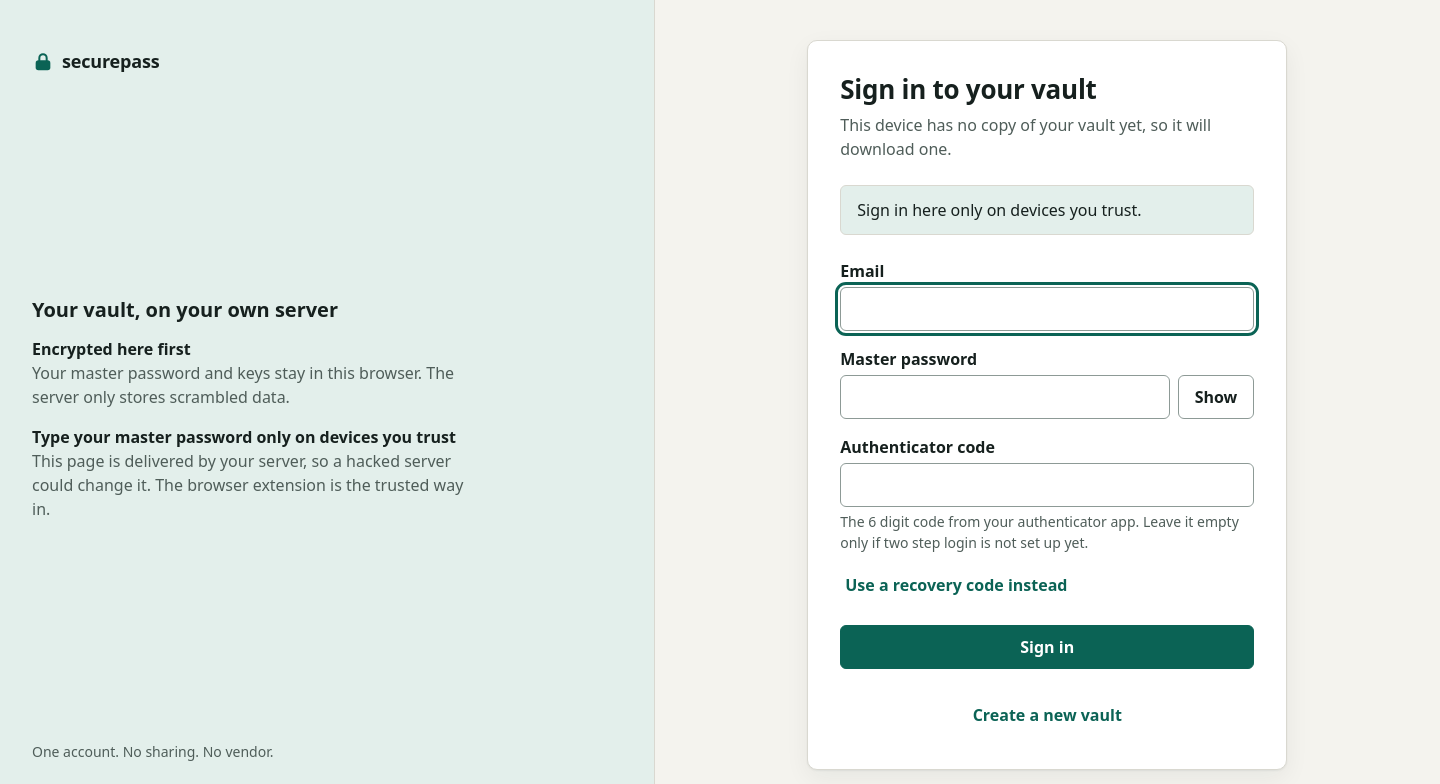
Test: SignInScreen › shows an alert for {"kind":"network"} and clears the password
Type "me@example.com" into the field labelled "Email". click: (1047, 309)
box: [840,287,1254,331]
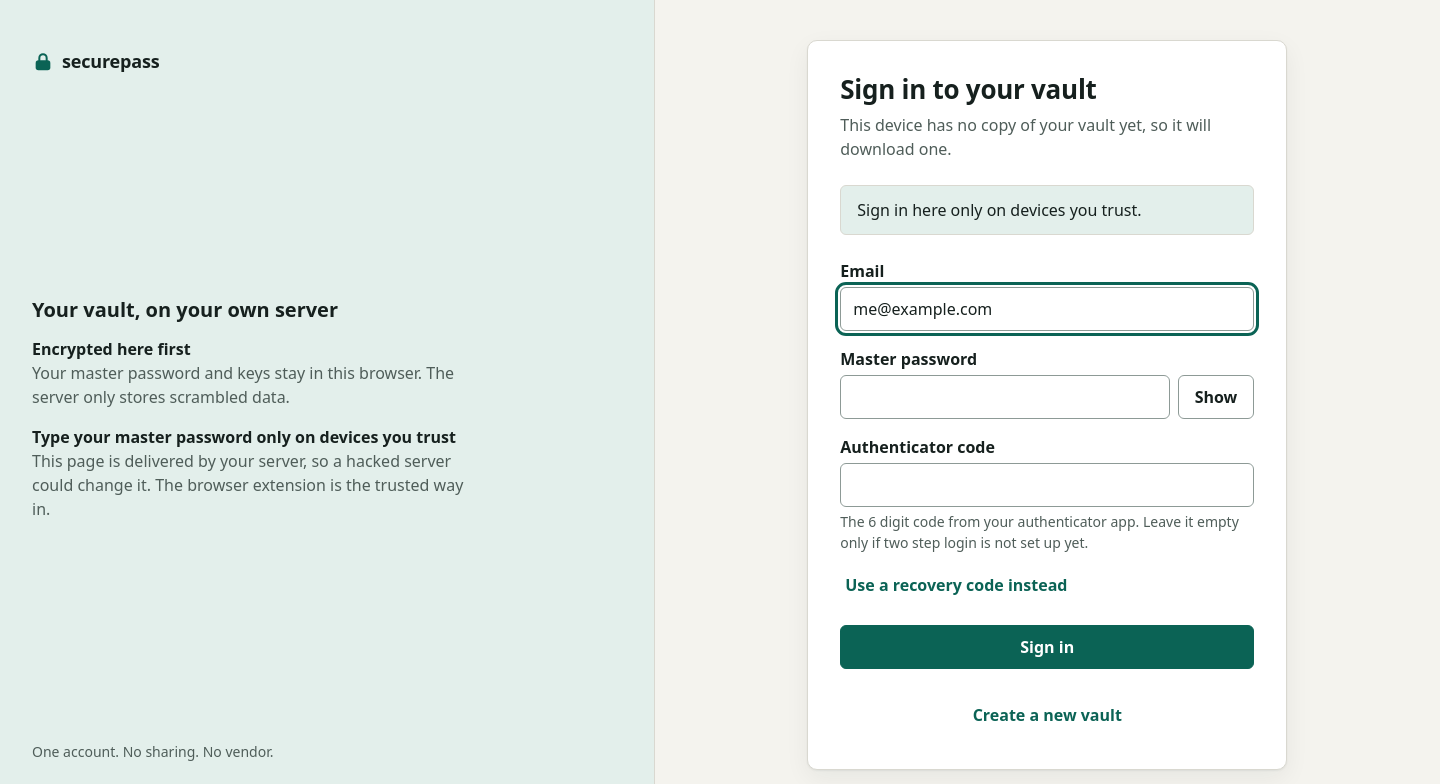
Type "hunter2hunter2" into the password field labelled "Master password". click: (1005, 397)
box: [840,375,1170,419]
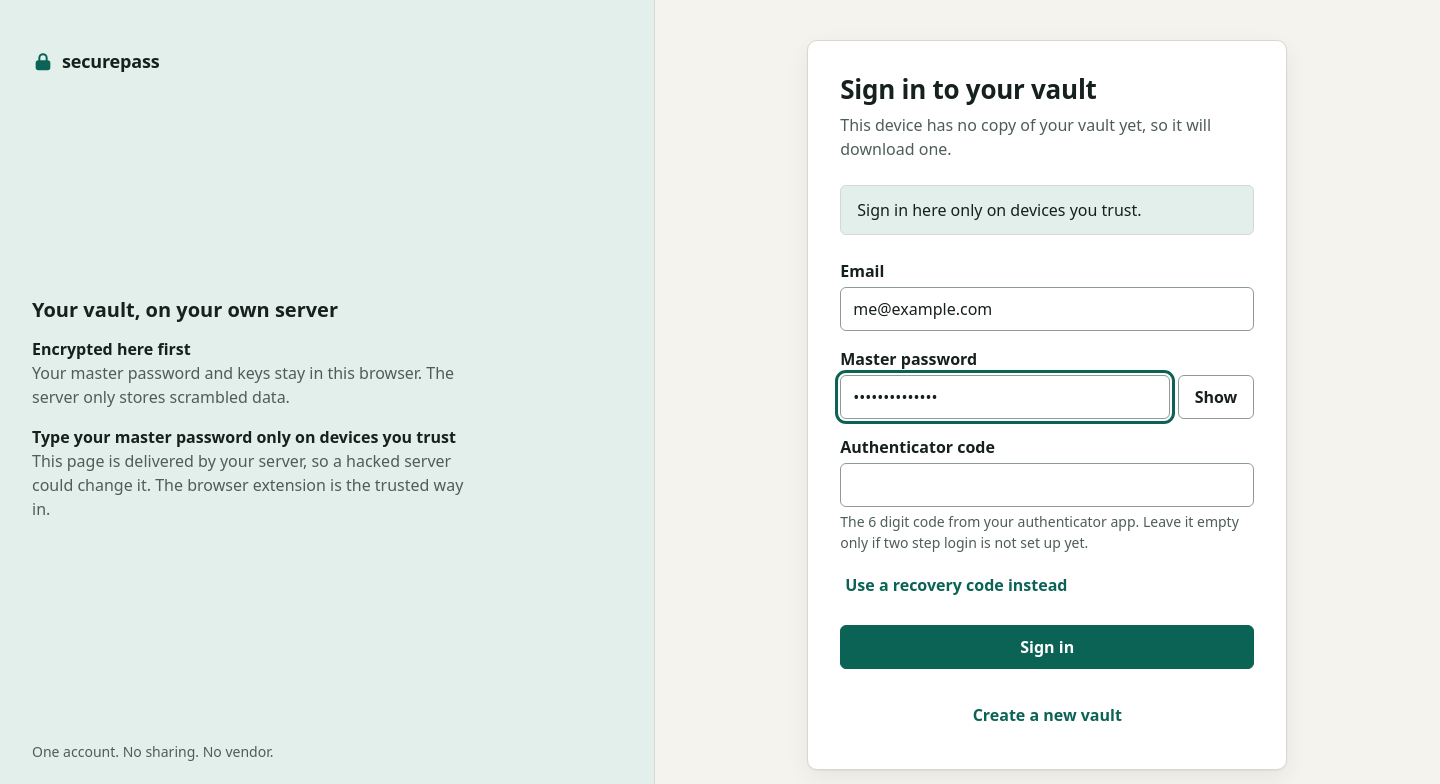
Click the button "Sign in". click: click(1047, 647)
box: [840,625,1254,669]
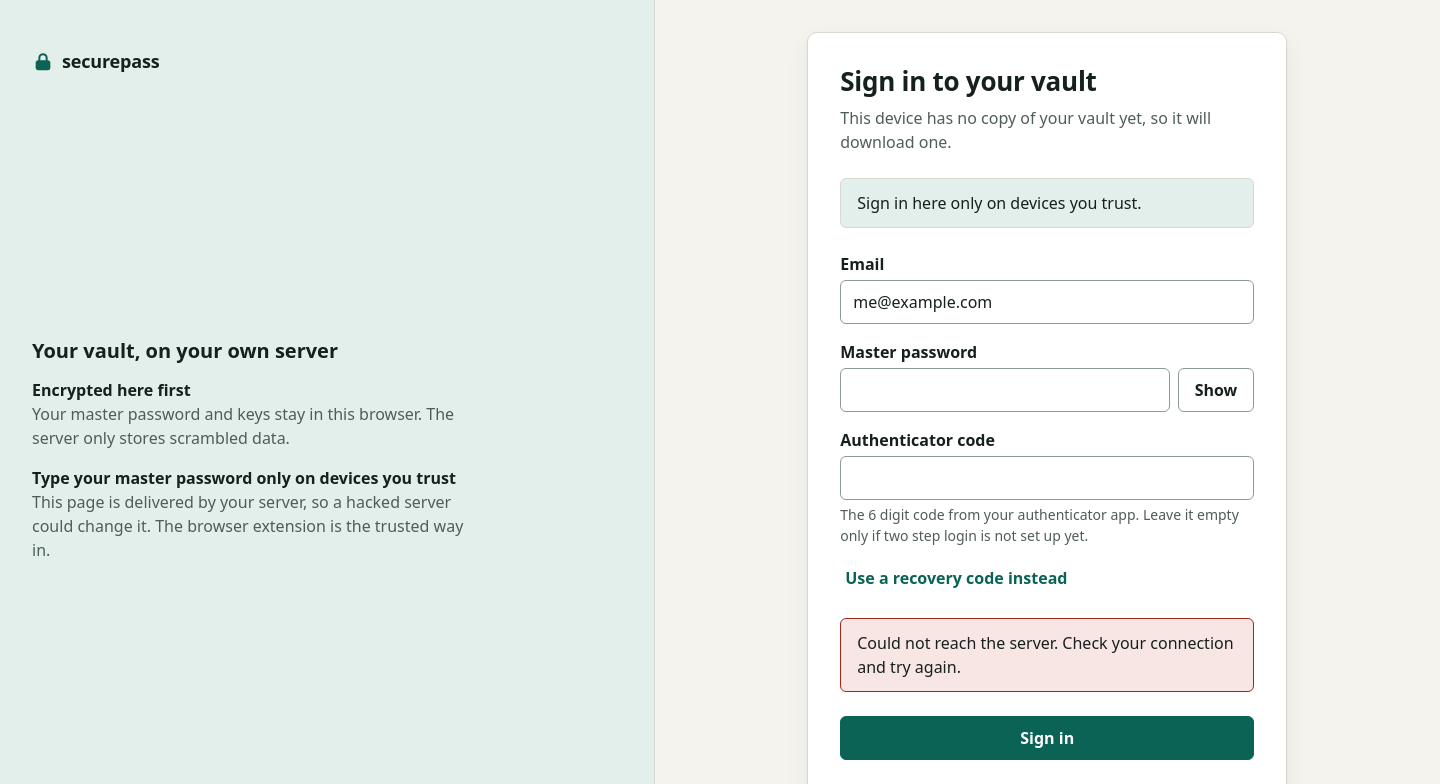
Check: the message shows "Could not reach the server", box [857,632,1234,678]
Check: the password field labelled "Master password" is empty, box [840,368,1170,412]
